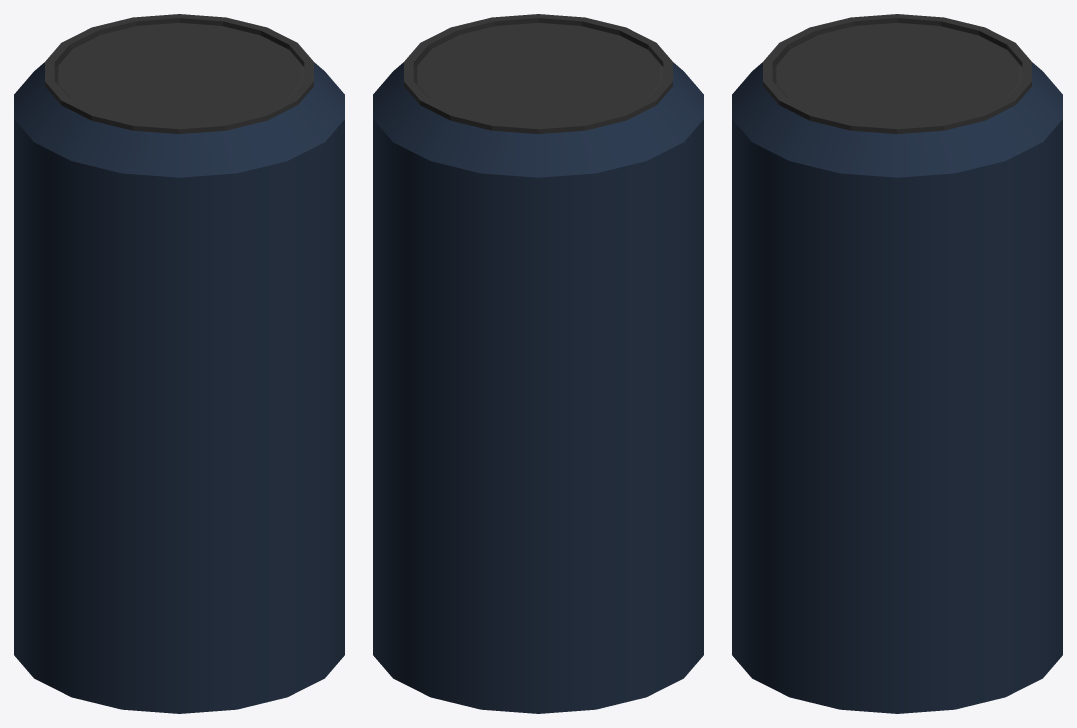
Rendered from can.FBX.
The picture shows the model from 3 angles, left to right: view 1: azimuth 30°, elevation 25°; view 2: azimuth 150°, elevation 25°; view 3: azimuth 270°, elevation 25°; orthographic projection.
Parts seen in each view (by area): view 1: Cylinder027; view 2: Cylinder027; view 3: Cylinder027.
Boxes of the visible parts, box(x1,y1,x2,y2) form: Cylinder027: box(14, 14, 344, 713); Cylinder027: box(373, 14, 703, 713); Cylinder027: box(732, 14, 1062, 713).
Size of the model in its own units: 10.6 by 20.56 by 10.44.
